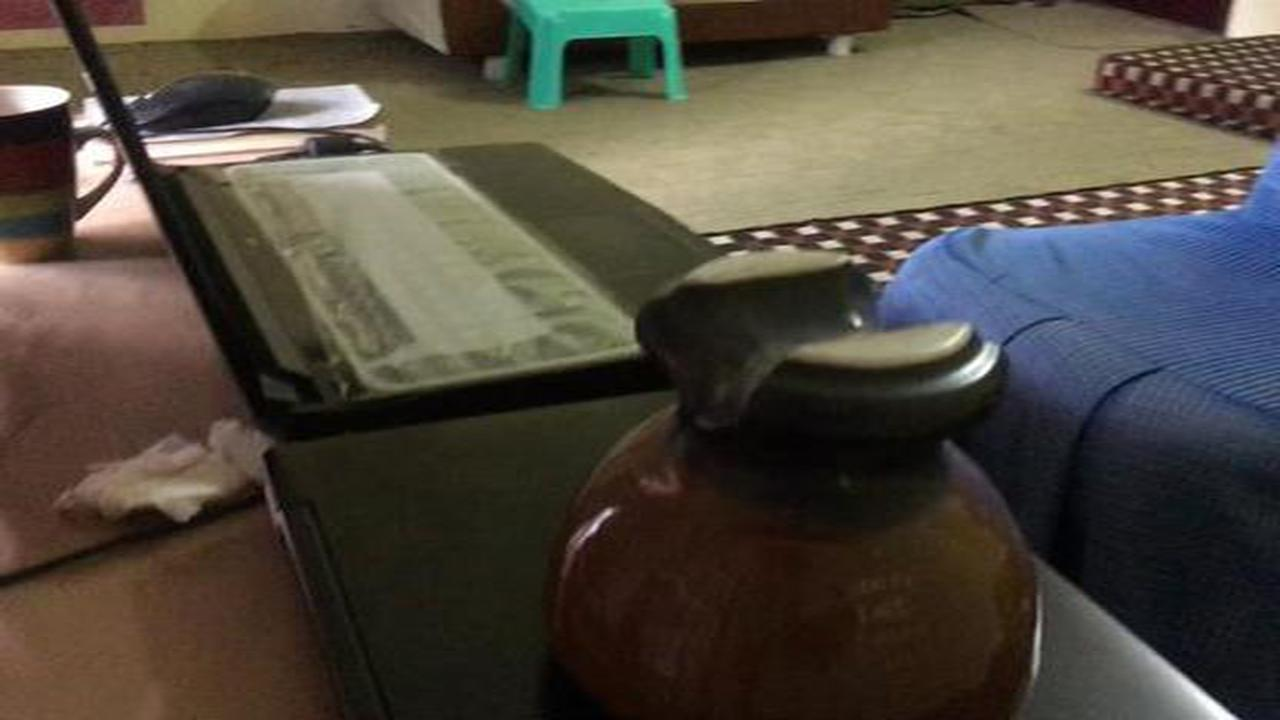insulator_pin: (533, 232, 1044, 719)
